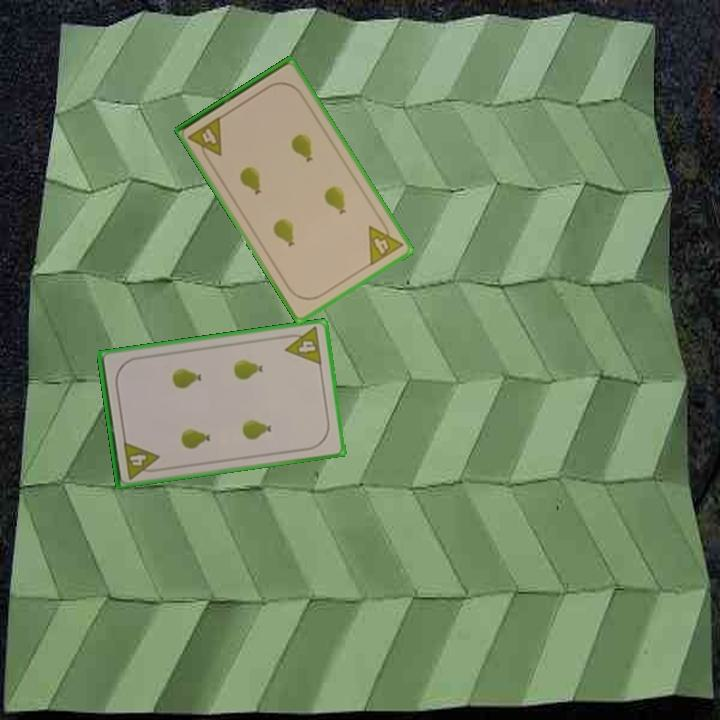4p: (365, 215, 406, 269), (185, 113, 225, 165), (280, 323, 325, 368), (120, 437, 163, 482)
